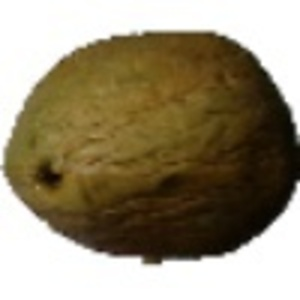mamão: (4, 19, 298, 269)
